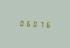seven: (36, 20, 41, 28)
six: (24, 19, 29, 27), (42, 20, 47, 28)
zero: (30, 19, 35, 28), (18, 19, 23, 27)
